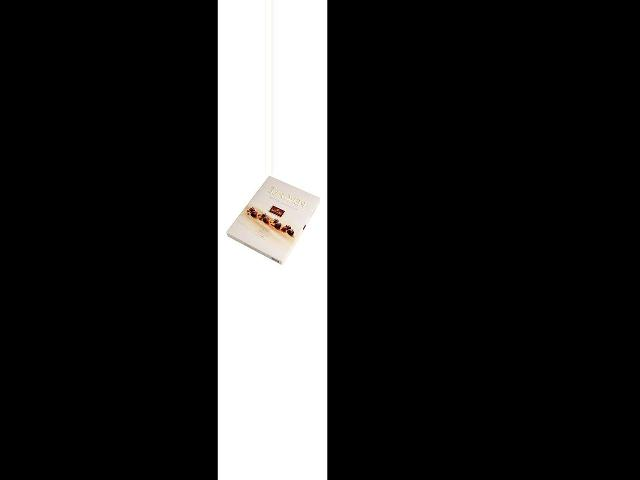chocolate: (219, 177, 320, 266)
